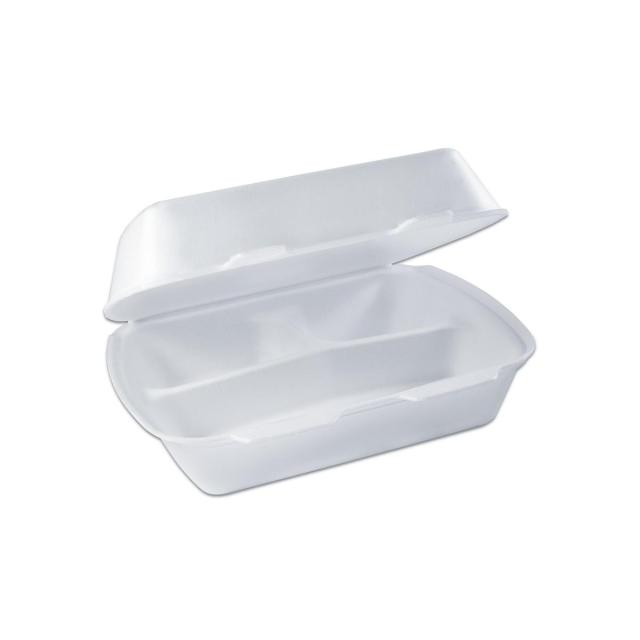styrofoam: (102, 145, 537, 496)
